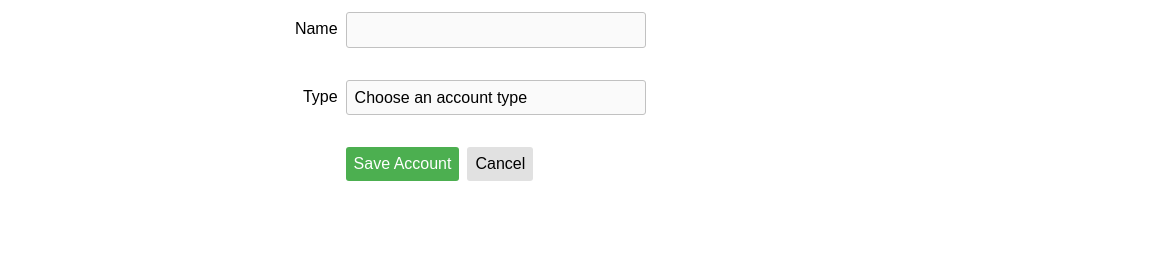
NewAccountForm › shows an error when the submission fails
In the field with test id "name-input": [496, 30] box [346,12,646,48], type "sample"
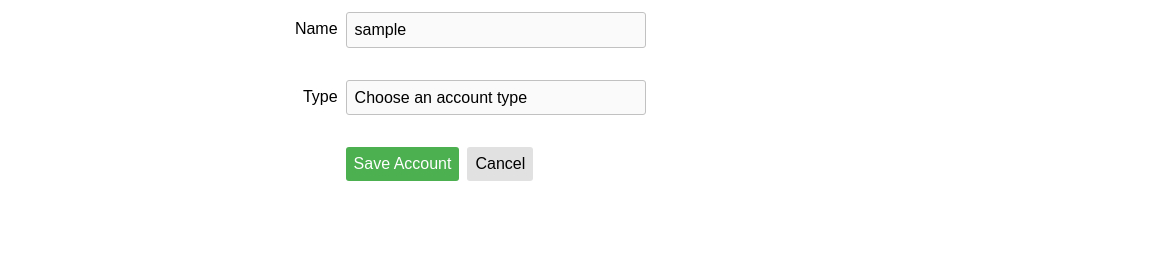
Select "Cash or Bank" in the dropdown with test id "account-type": [496, 98] box [346,80,646,115]
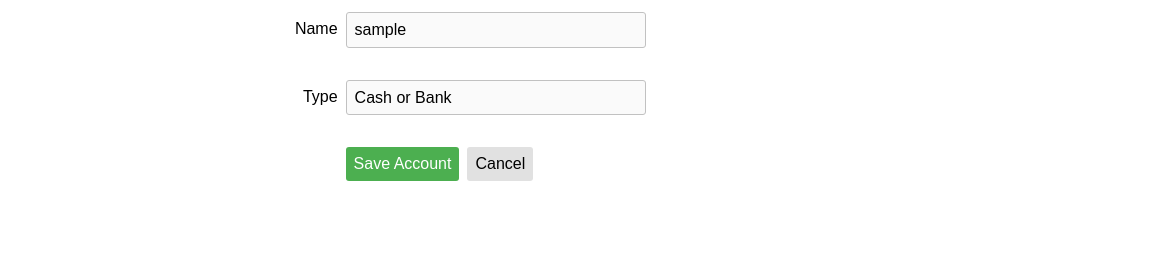
Submit the form with test id "new-account-form", box [295,12,646,181]
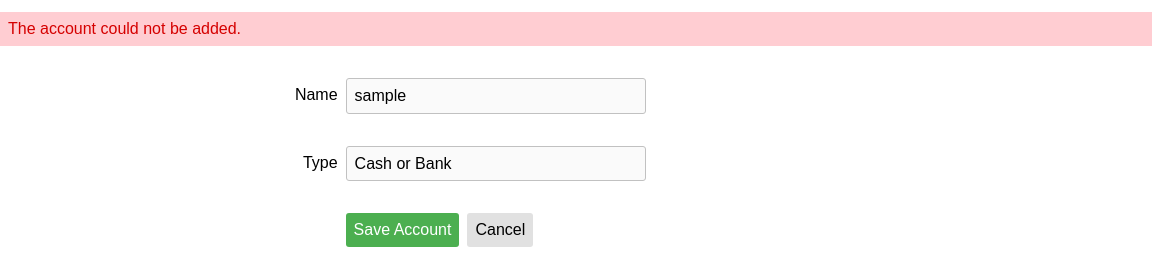
expect the text "The account could not be added." is shown: met, box [0,12,1151,46]
